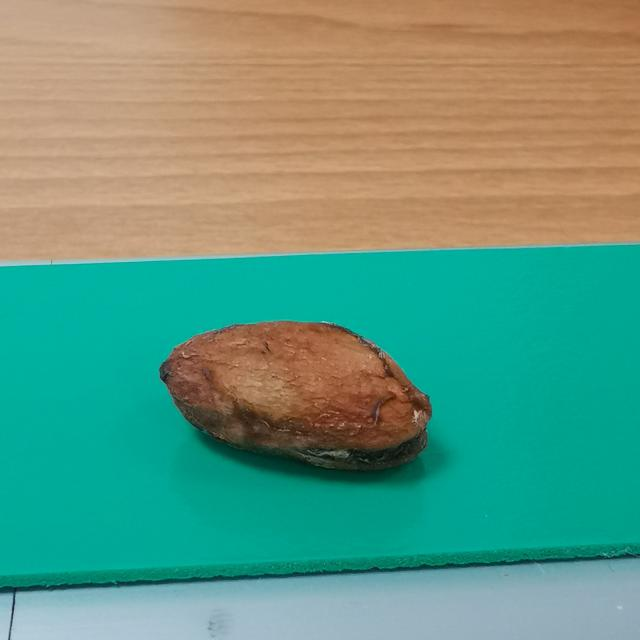Fine_cocoabeans: (84, 291, 500, 518)
